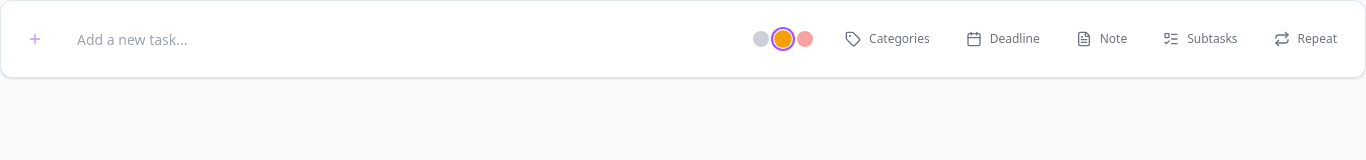
Test: TaskInput › enables plus button when input has text
Check: the button named "Add task" is disabled, box [17, 21, 53, 57]
Type "Task title" into the field named "New task title" at {"x": 399, "y": 39}, box [65, 17, 733, 61]
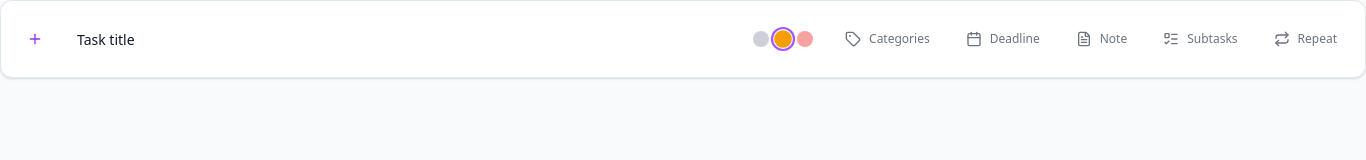
Check: the button named "Add task" is enabled, box [17, 21, 53, 57]
